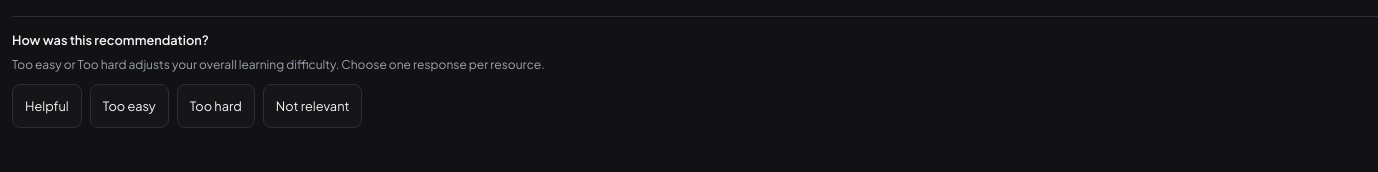
Scenario: Recommendation feedback eligibility and controls › locks repeated/opposite clicks during pending and retains success across tab unmount
Later steps or results of the test are not shown.
Click the button "Helpful" at (47, 106), box [12,84,82,128]
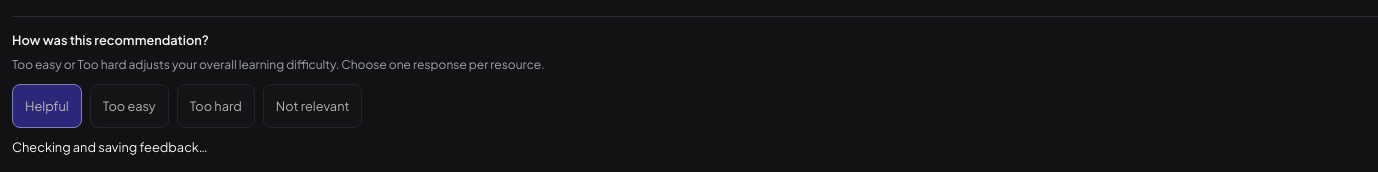
Click the button "Too hard" at (216, 106), box [177,84,255,128]
Expected: the message shows "Checking and saving", [12,139,208,155]
